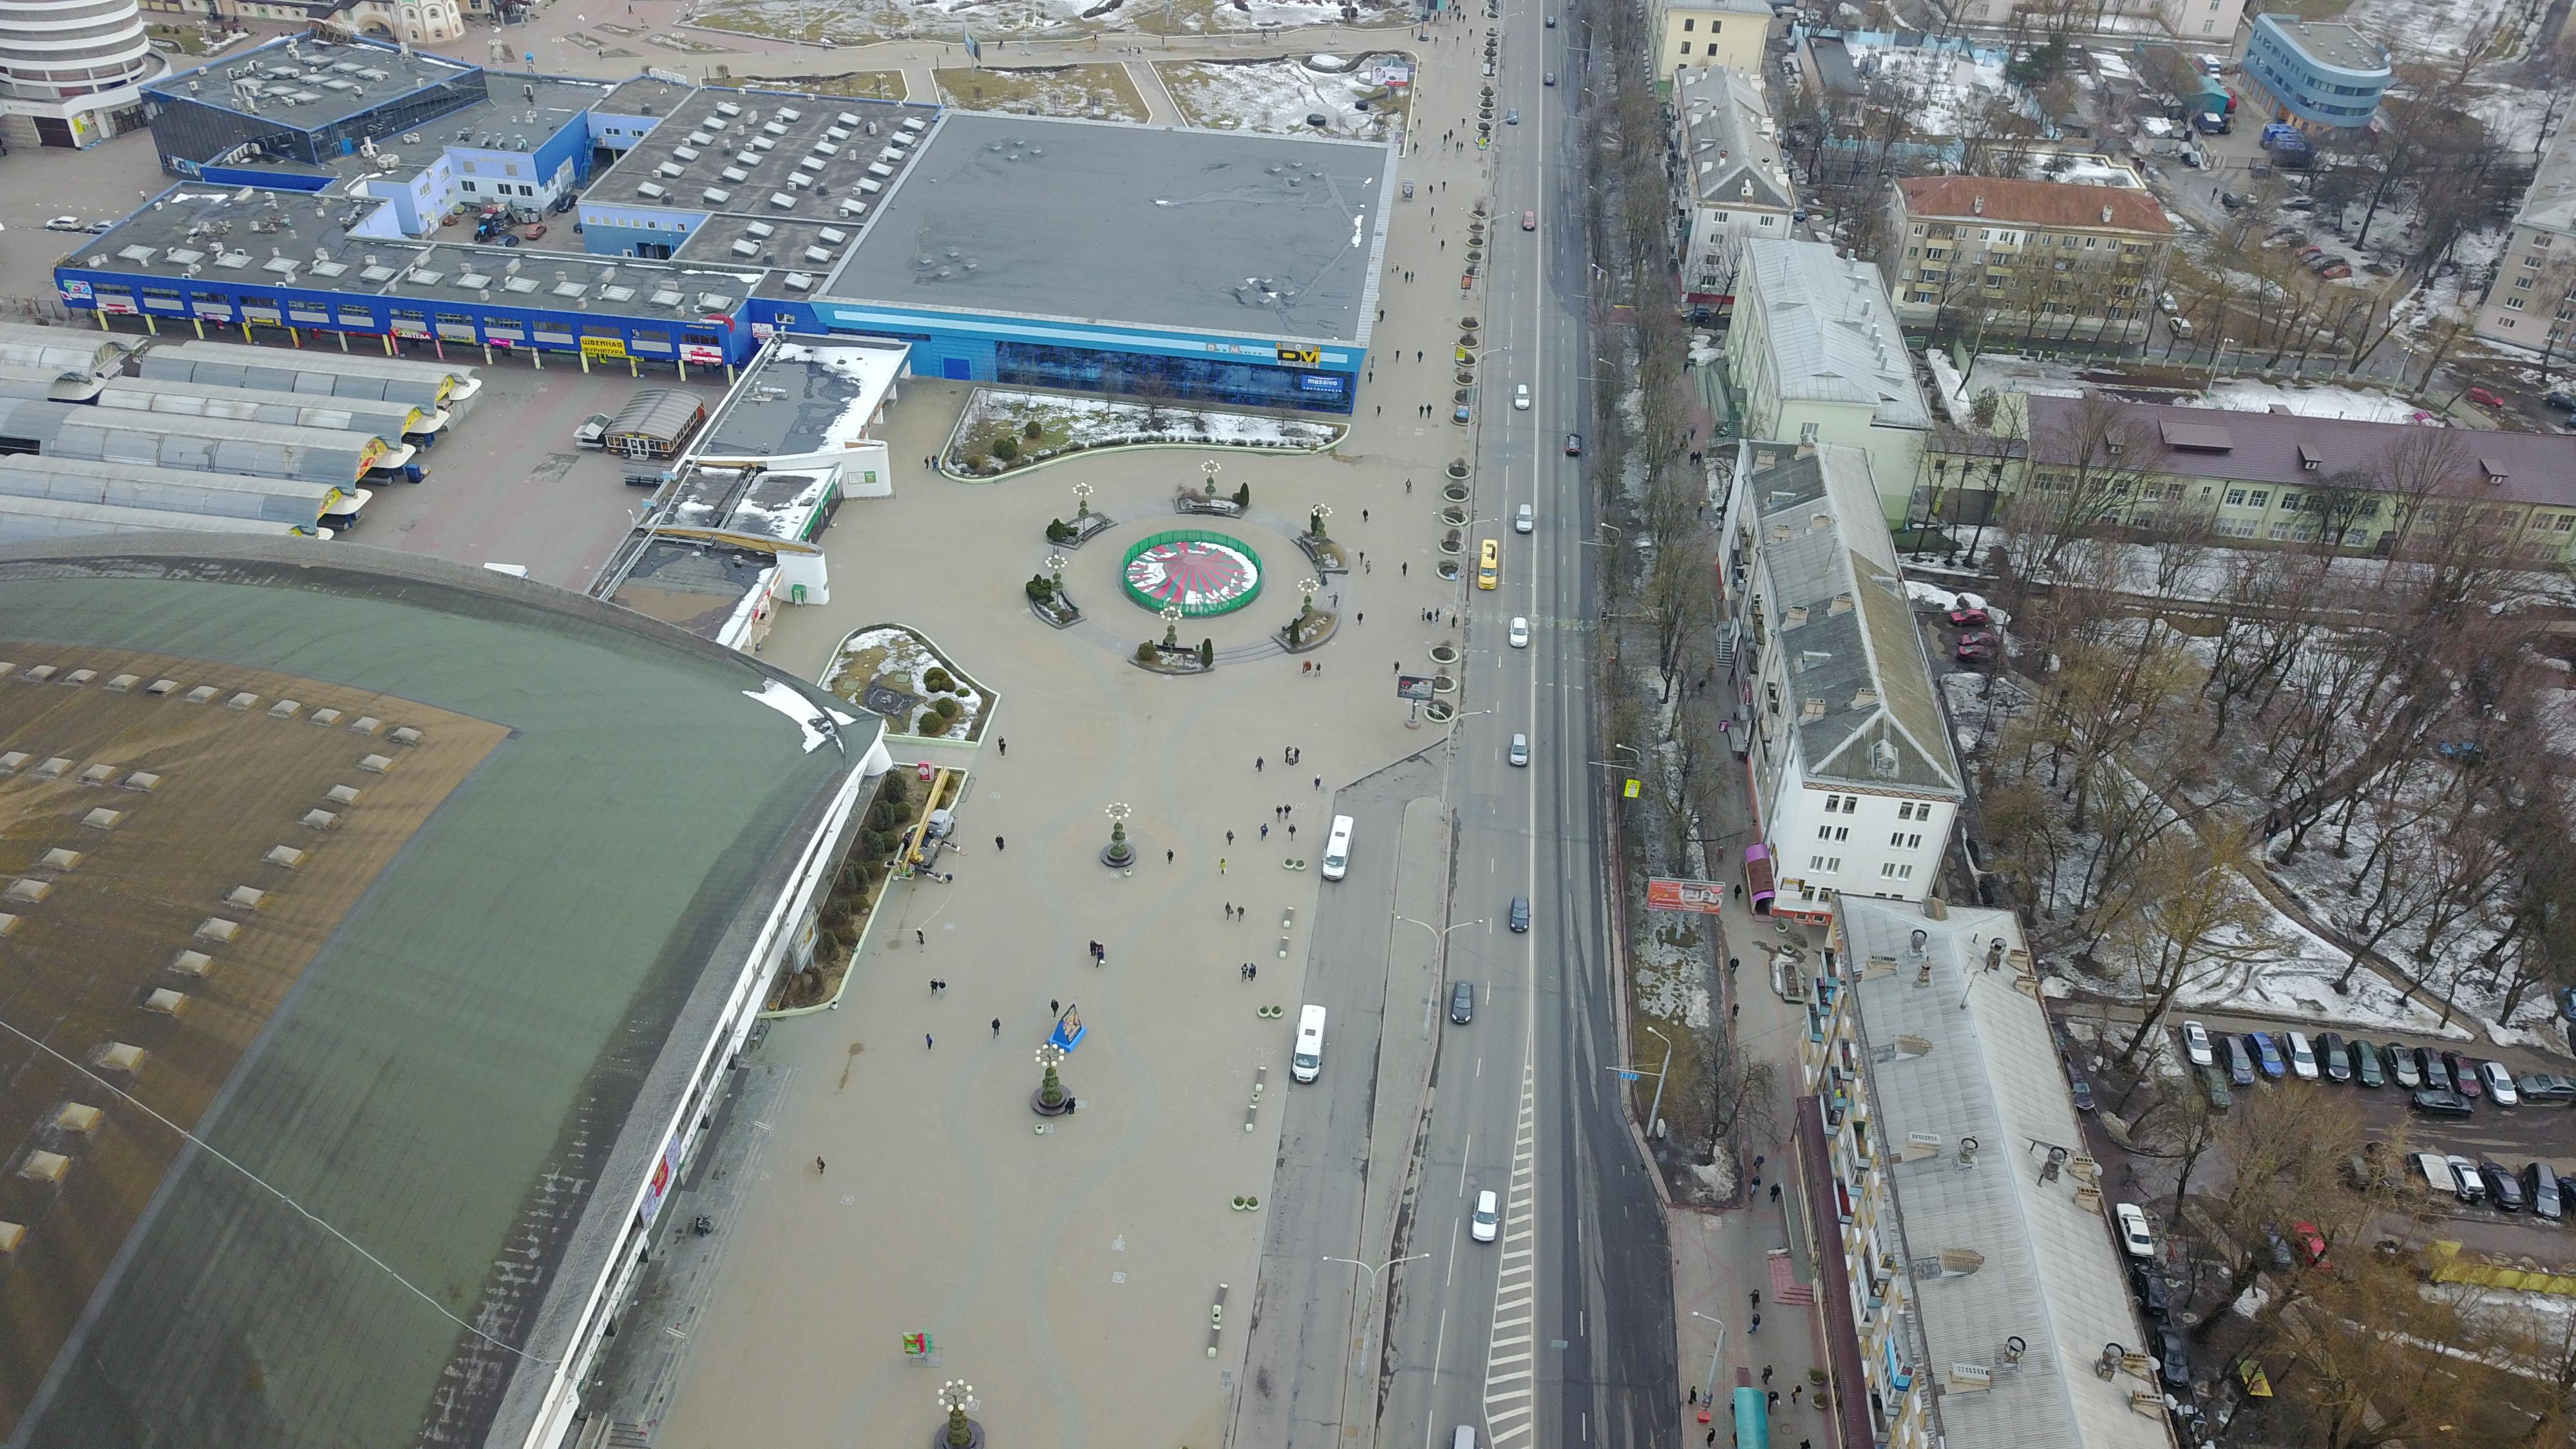car: (1318, 808, 1359, 883), (1290, 1002, 1325, 1086), (1472, 1183, 1505, 1256), (1446, 976, 1476, 1031), (1476, 538, 1502, 593), (1504, 893, 1533, 938), (1507, 732, 1530, 768), (1508, 616, 1529, 650), (1515, 502, 1535, 534), (1513, 383, 1531, 411), (1565, 431, 1583, 457)
